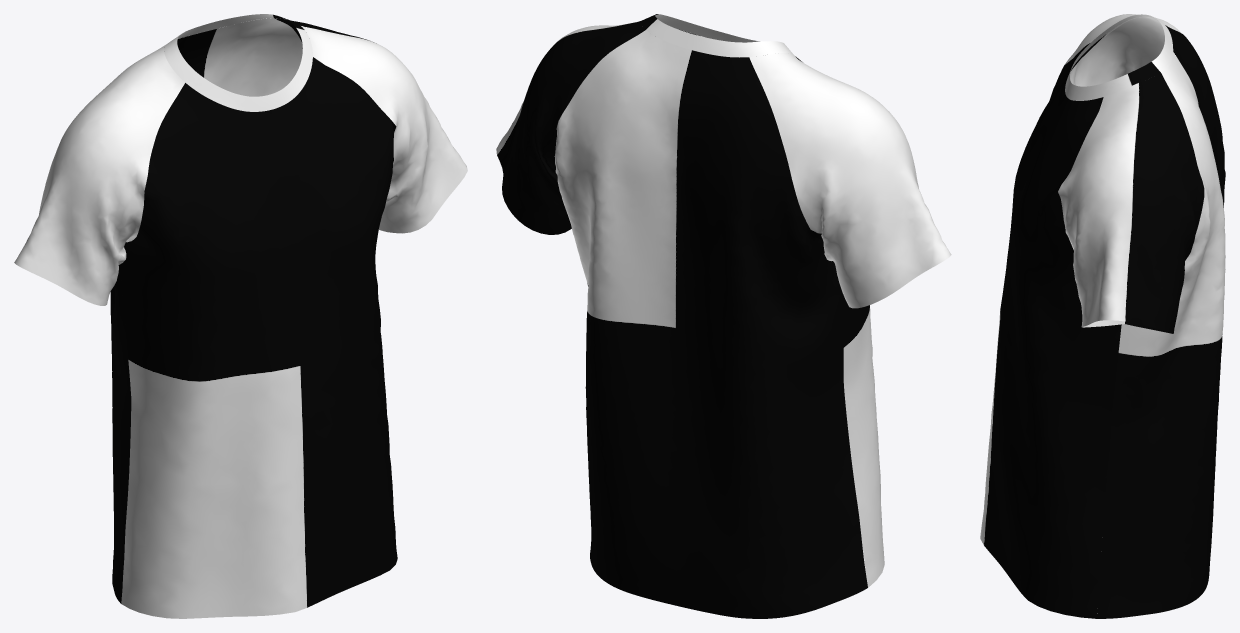
File: t_shirt_fit_regular_sleeve_raglan.gltf
3 renders of one model, left to right at view 1: azimuth 30°, elevation 25°; view 2: azimuth 150°, elevation 25°; view 3: azimuth 270°, elevation 25°, orthographic. The views are drawn at different scales.
Visible parts, largest first — view 1: Body_Front_1, Sleeves_3, Sleeves_2, Body_Back, Pattern_233998; view 2: Body_Back, Sleeves_3, Sleeves_2, Body_Front_1, Pattern_233998; view 3: Body_Front_1, Body_Back, Sleeves_2, Sleeves_3, Pattern_233998.
Boxes of the visible parts, <box> form: Body_Front_1: <box>120,57,397,618</box>; Sleeves_3: <box>14,44,185,305</box>; Sleeves_2: <box>274,18,467,233</box>; Body_Back: <box>110,18,302,603</box>; Pattern_233998: <box>164,14,312,111</box>; Body_Back: <box>554,30,867,618</box>; Sleeves_3: <box>749,53,951,308</box>; Sleeves_2: <box>496,20,645,234</box>; Body_Front_1: <box>679,29,884,587</box>; Pattern_233998: <box>641,14,793,57</box>; Body_Front_1: <box>980,34,1121,618</box>; Body_Back: <box>1097,25,1225,618</box>; Sleeves_2: <box>1058,73,1204,333</box>; Sleeves_3: <box>1061,14,1182,114</box>; Pattern_233998: <box>1065,14,1173,100</box>.
Size of the model in its own units: 0.6107 by 0.7051 by 0.2989.
Materials: 5 (5 with a texture image).
